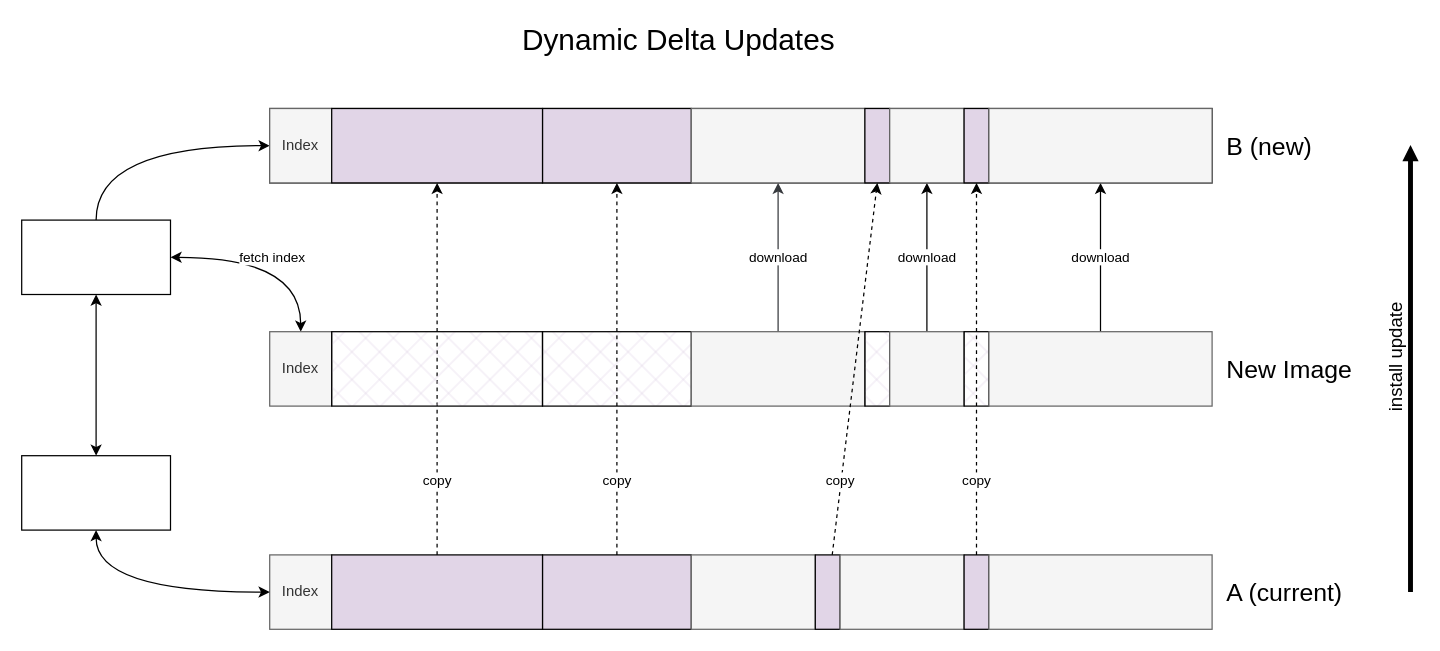
Some shapes in this 1440 by 651 pixel diagram are drawn without their labels. The box of each missing label's shape, as (x1, y1, x2, y2) in pixels:
chunk store: (20, 454, 170, 530)
updater: (20, 219, 170, 294)
